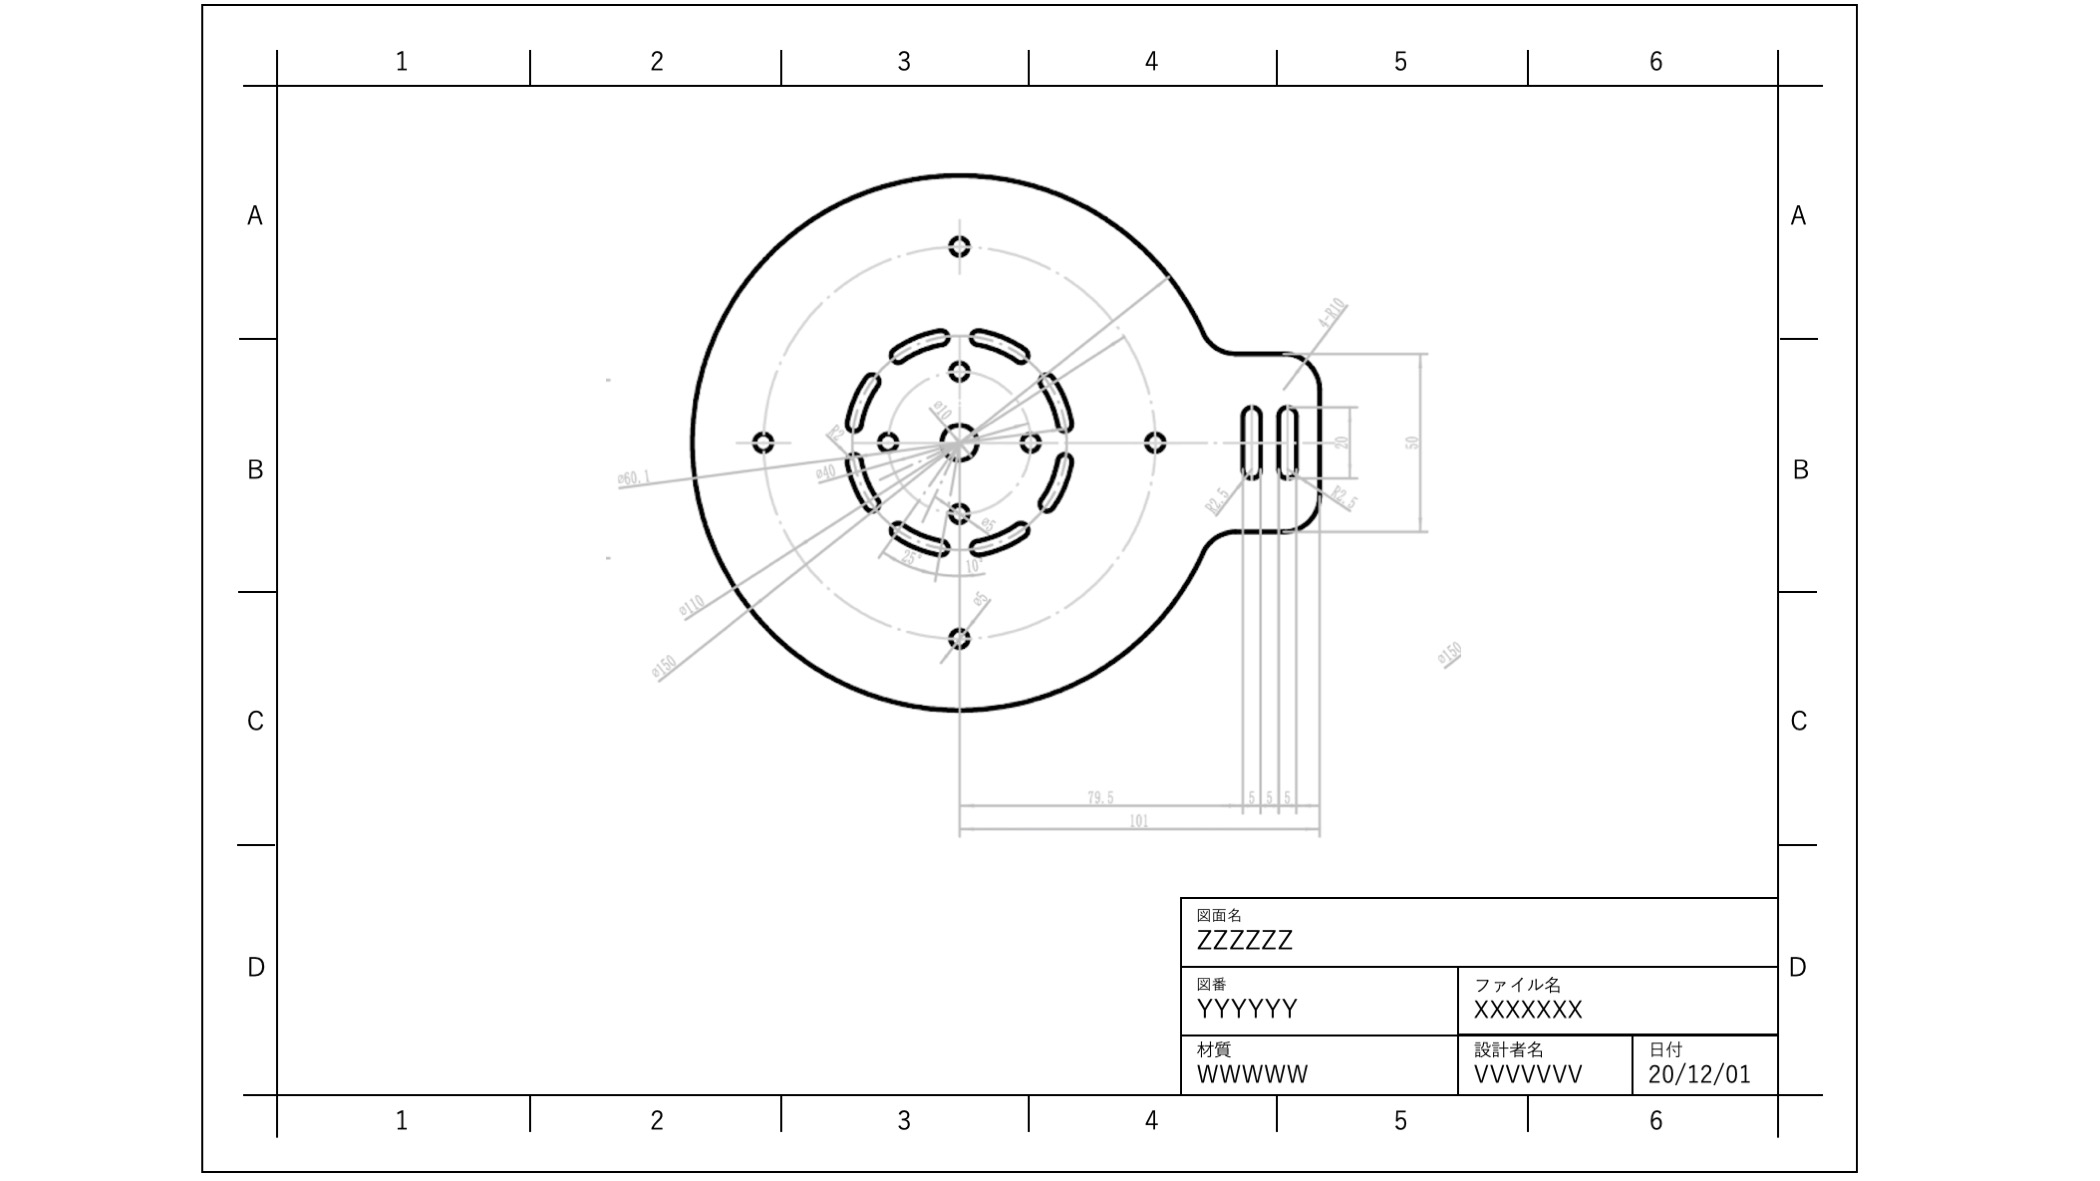circle: (939, 420, 981, 464), (939, 619, 987, 658), (942, 216, 981, 262), (945, 479, 976, 523), (1137, 424, 1170, 460), (750, 415, 777, 459), (939, 359, 984, 385), (1012, 431, 1050, 456), (878, 420, 899, 446)
round_rectangle: (961, 314, 1033, 368), (883, 317, 956, 368), (1020, 369, 1079, 431), (835, 450, 888, 518), (842, 362, 883, 443), (1036, 443, 1079, 516), (965, 513, 1031, 558), (886, 519, 953, 561), (1271, 402, 1300, 486), (1236, 398, 1266, 477)
